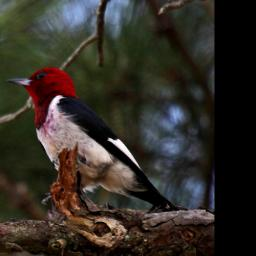Woodpecker: (2, 64, 189, 212)
